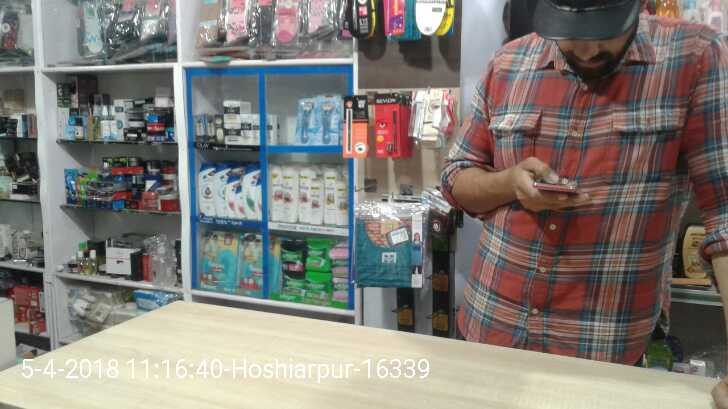venus: (318, 92, 341, 144), (295, 97, 316, 142)
